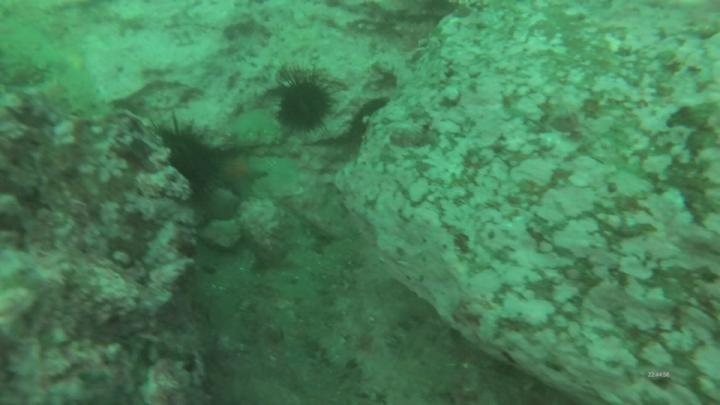echinus: (147, 116, 215, 196), (270, 70, 341, 146)
starfish: (210, 144, 267, 208)
